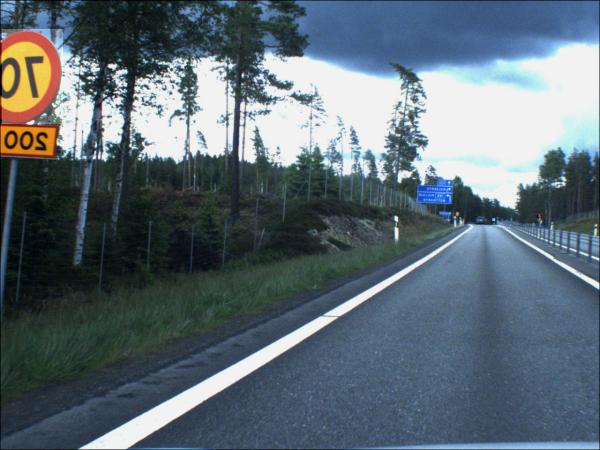70_SIGN: (2, 30, 64, 126), (537, 216, 543, 220), (456, 213, 460, 218)
PASS_RIGHT_SIDE: (492, 220, 496, 224)
